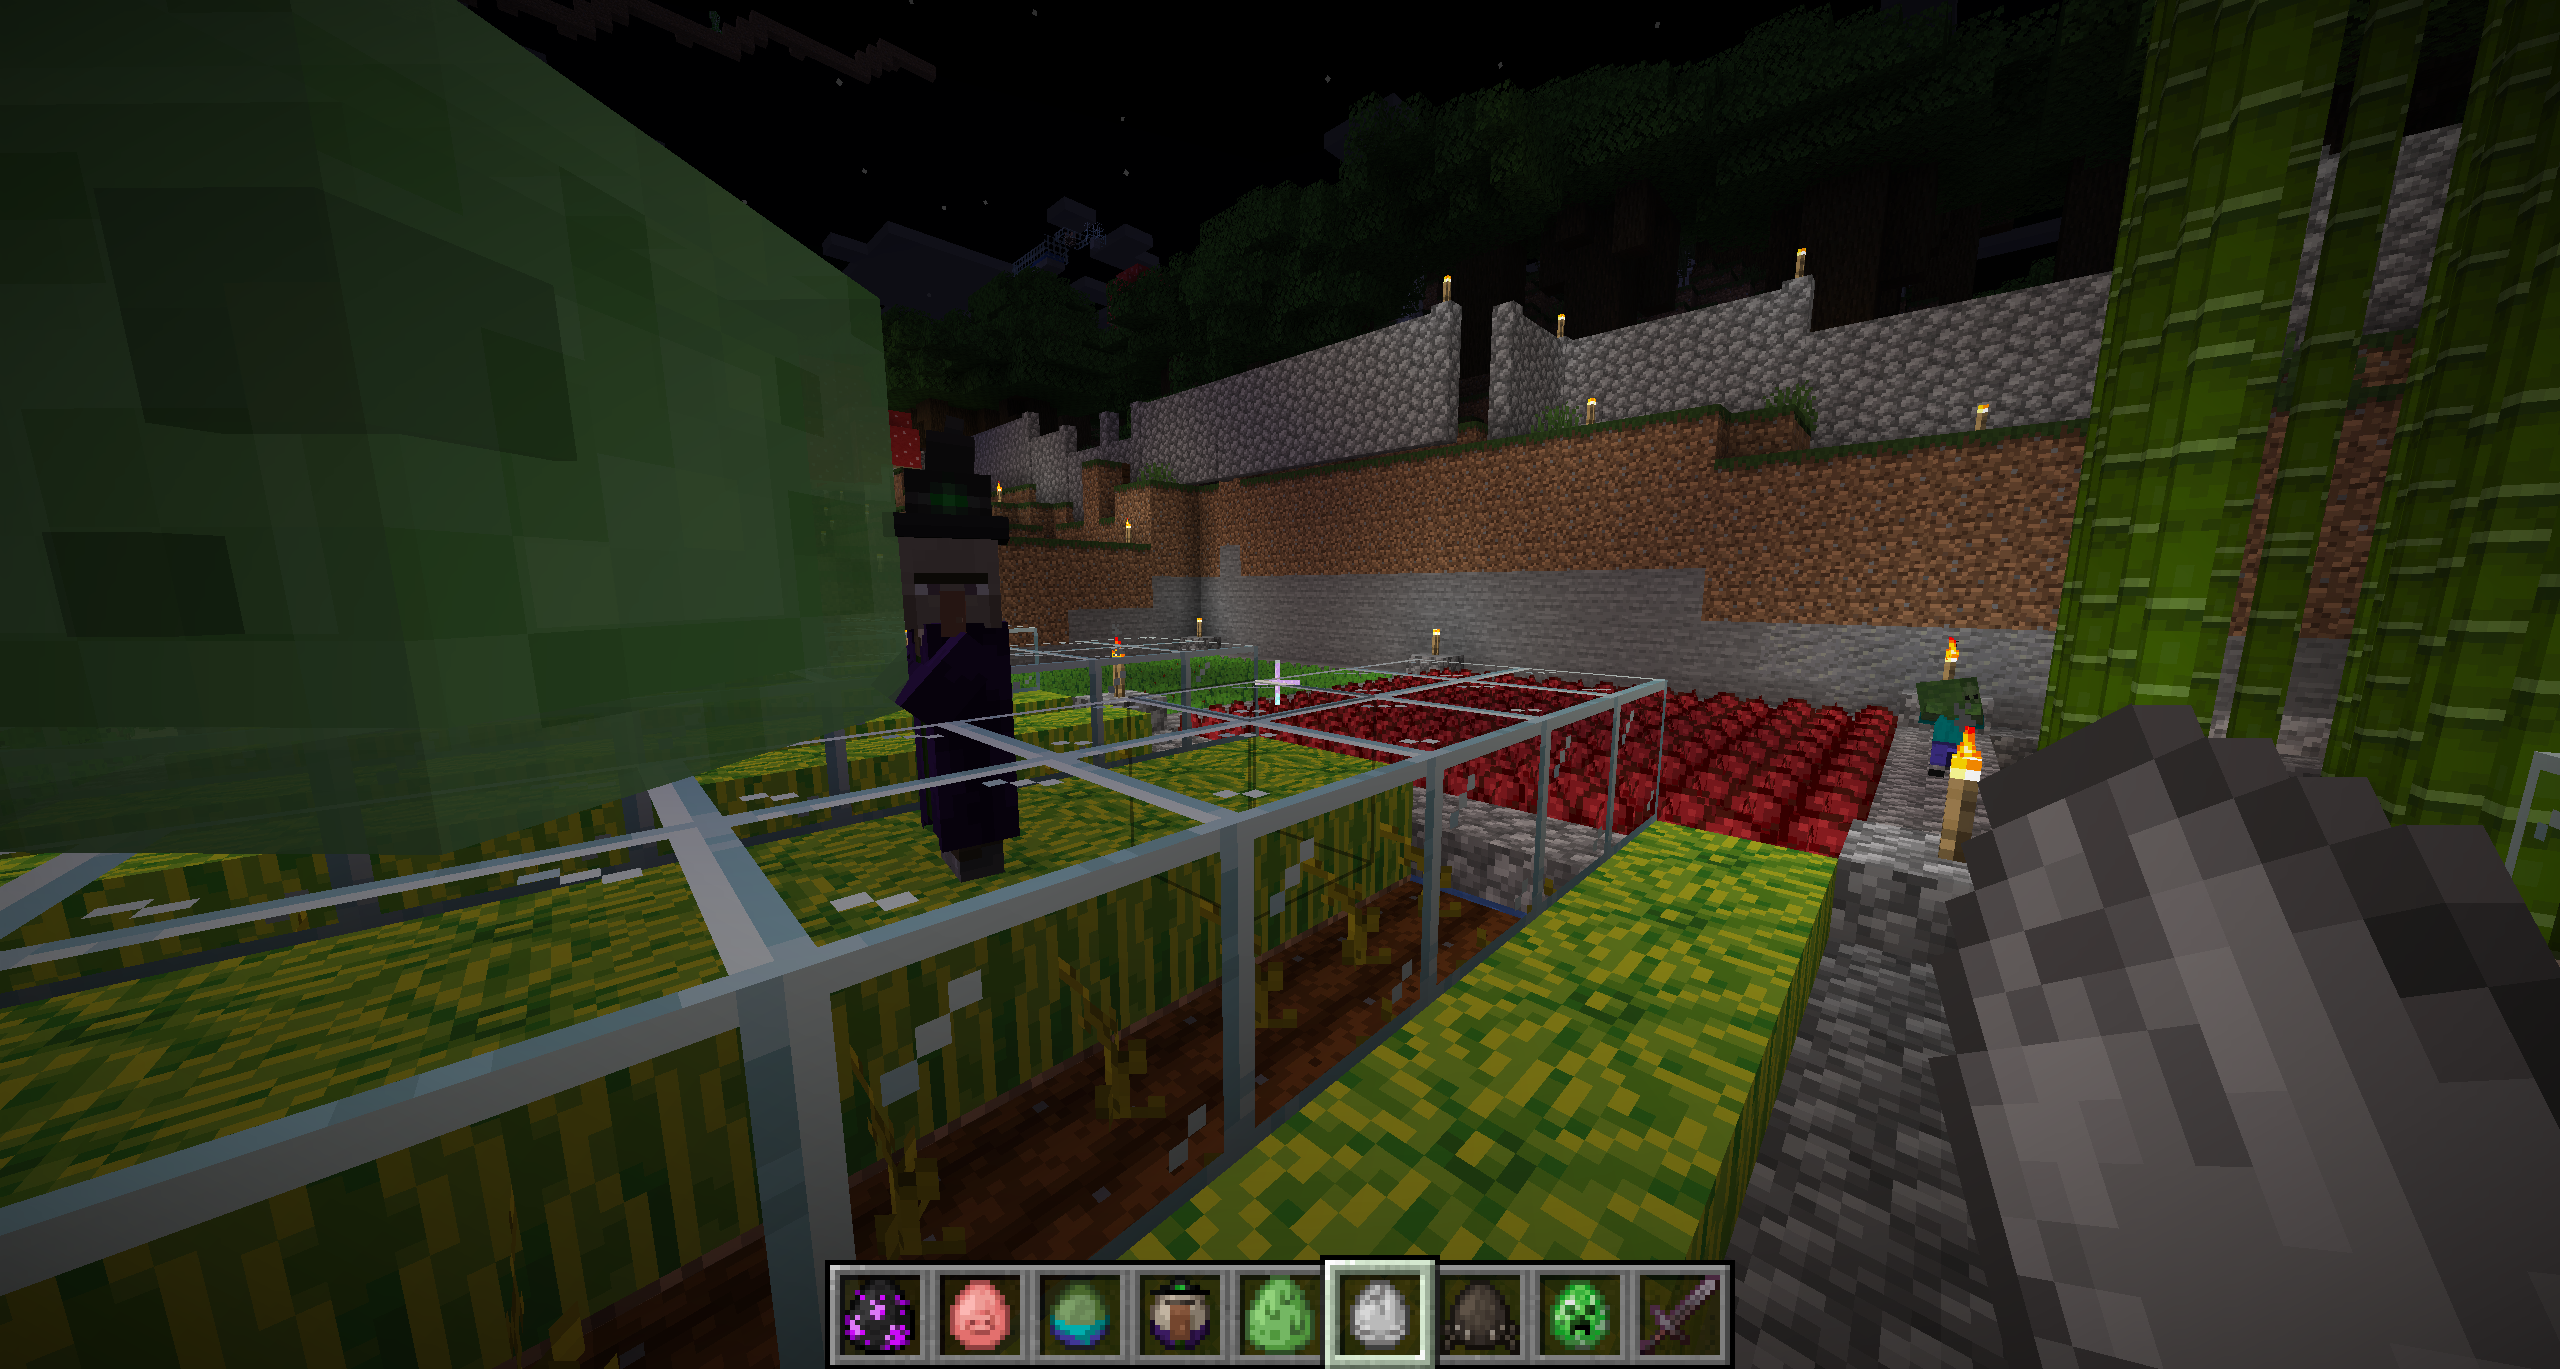slimes: (0, 0, 913, 861)
sorcieres: (889, 435, 1018, 878)
